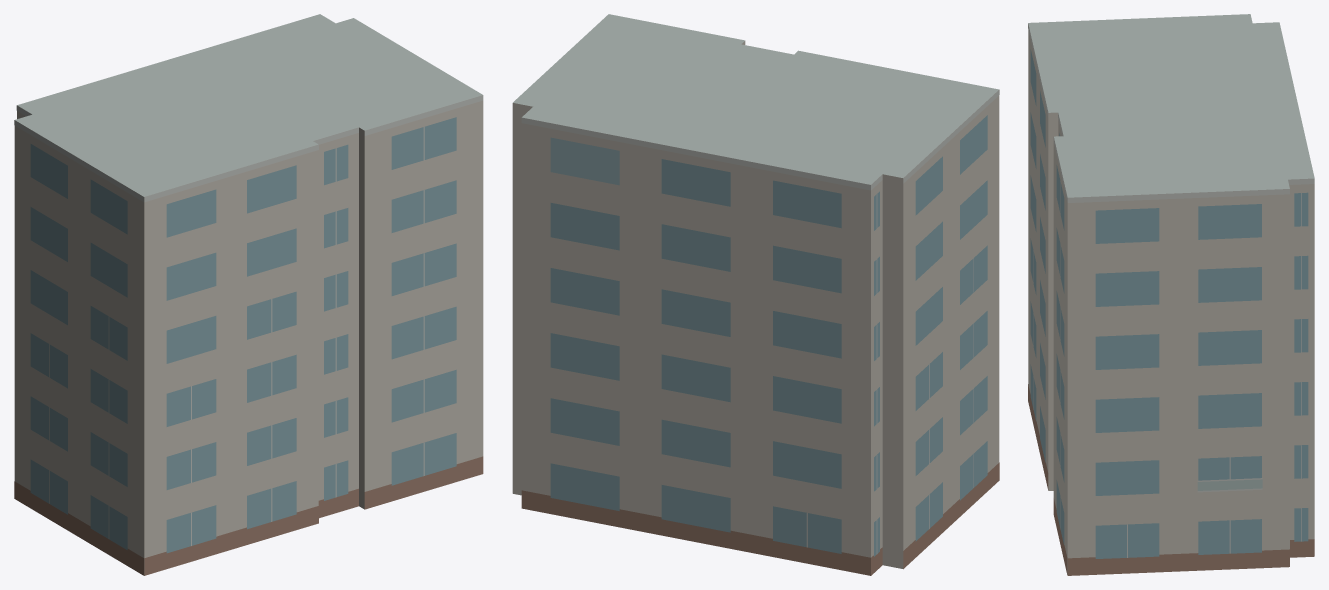
File: survey-upis-32724831.glb
The picture shows the model from 3 angles, left to right: view 1: azimuth 30°, elevation 25°; view 2: azimuth 150°, elevation 25°; view 3: azimuth 270°, elevation 25°; orthographic projection. The views are drawn at different scales.
Visible parts, largest first — view 1: survey-upis-32724831.tmp; view 2: survey-upis-32724831.tmp; view 3: survey-upis-32724831.tmp.
Part boxes in pixels (box(x1,y1,x2,y2)): survey-upis-32724831.tmp: box(14, 14, 483, 575); survey-upis-32724831.tmp: box(512, 14, 999, 575); survey-upis-32724831.tmp: box(1028, 14, 1314, 575).
Size of the model in its own units: 17.77 by 17.05 by 11.72.
